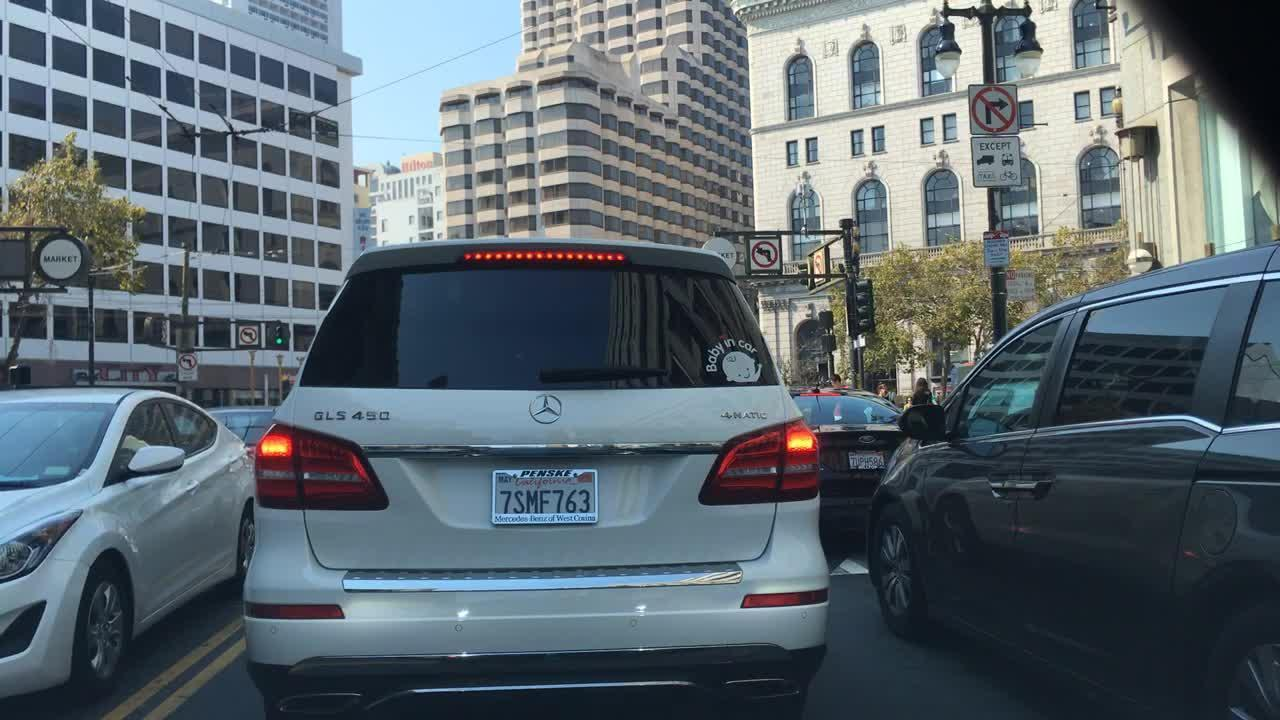Mercedes: (506, 378, 582, 434)
